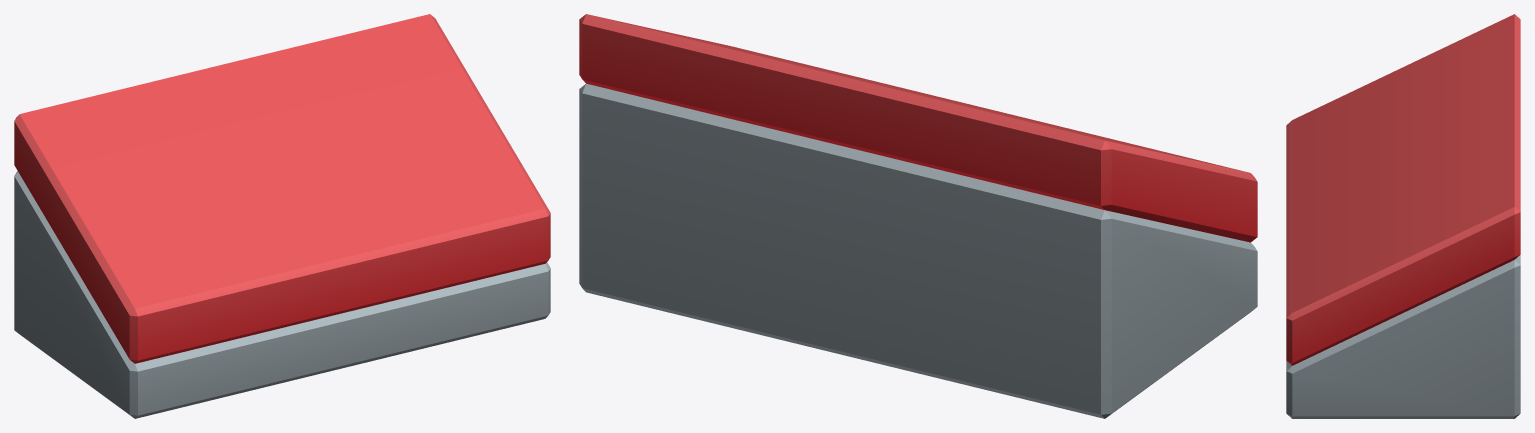
The model's file is platform_slope_4x2x2_red.glb.
3 views of the same model, side by side, from view 1: azimuth 30°, elevation 25°; view 2: azimuth 150°, elevation 25°; view 3: azimuth 270°, elevation 25° (orthographic). The views are drawn at different scales.
Visible parts, largest first — view 1: platform_slope_4x2x2_red; view 2: platform_slope_4x2x2_red; view 3: platform_slope_4x2x2_red.
Part boxes in pixels (<box>): platform_slope_4x2x2_red: <box>14,14,550,418</box>; platform_slope_4x2x2_red: <box>579,14,1257,418</box>; platform_slope_4x2x2_red: <box>1286,14,1520,418</box>.
Bounding box in the file's own units: 4 × 2 × 2.
1 material, 1 textured.
